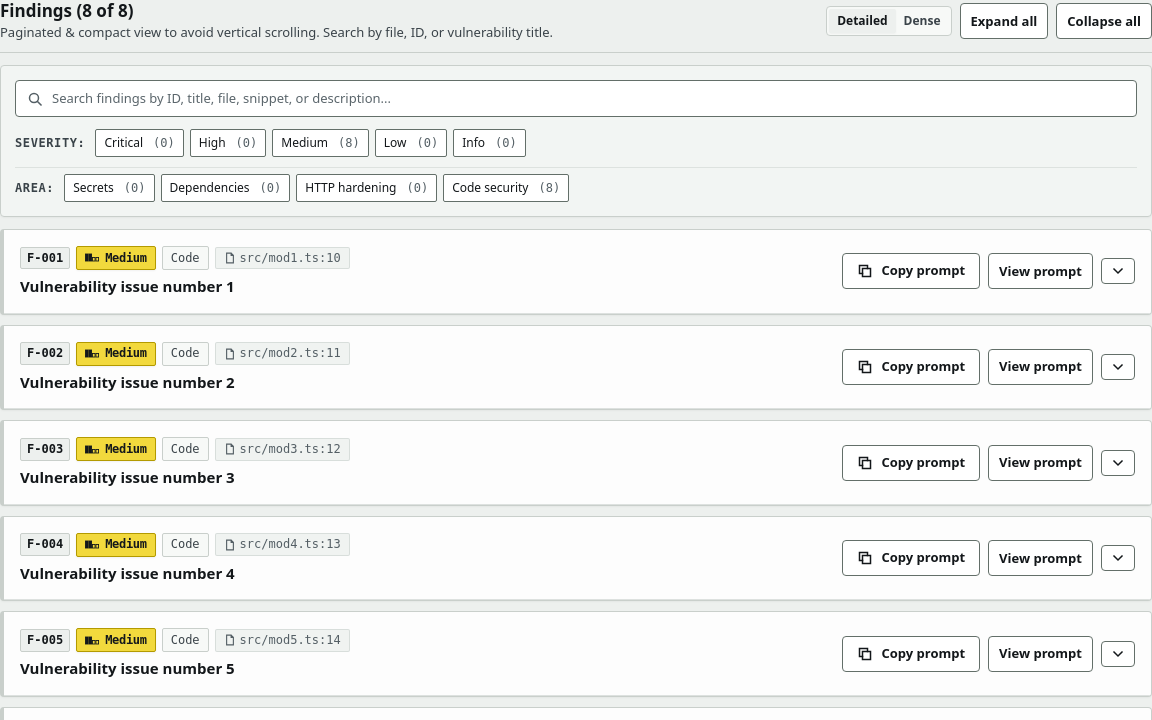
Test: Compact Dashboard & Tabbed Report Navigation › supports density mode toggle and renders pagination controls when findings exceed page size
The image size is (1152, 720).
Expected: the button "Detailed" is shown, x1=829 y1=9 x2=896 y2=33
# Toggle to dense view
Click the button "Dense".
click(922, 21)  # box x1=896 y1=9 x2=948 y2=33
(page scrolled)
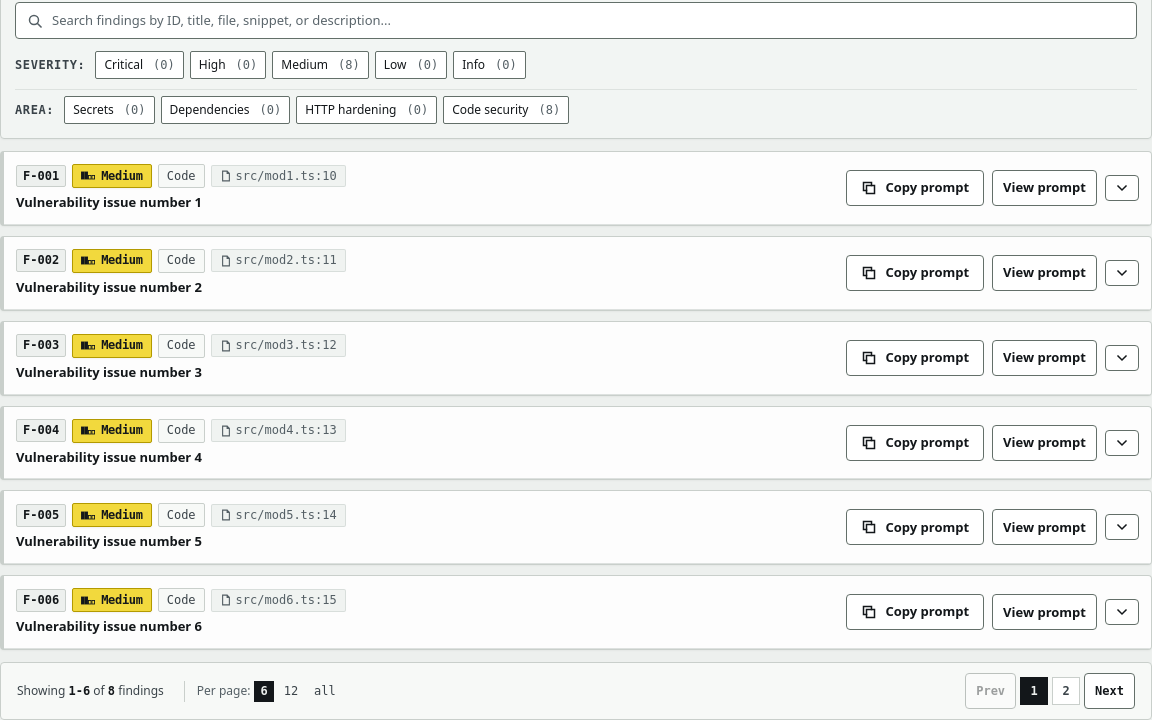
Expected: the element named "Findings pagination" is shown, x1=0 y1=662 x2=1151 y2=719
Expected: the text "Showing 1-6 of 8 findings" is shown, x1=17 y1=683 x2=164 y2=700
# Navigate to page 2
Click the button with aria-label "Next findings page".
click(1110, 691)  # box x1=1084 y1=673 x2=1135 y2=709
(page scrolled)
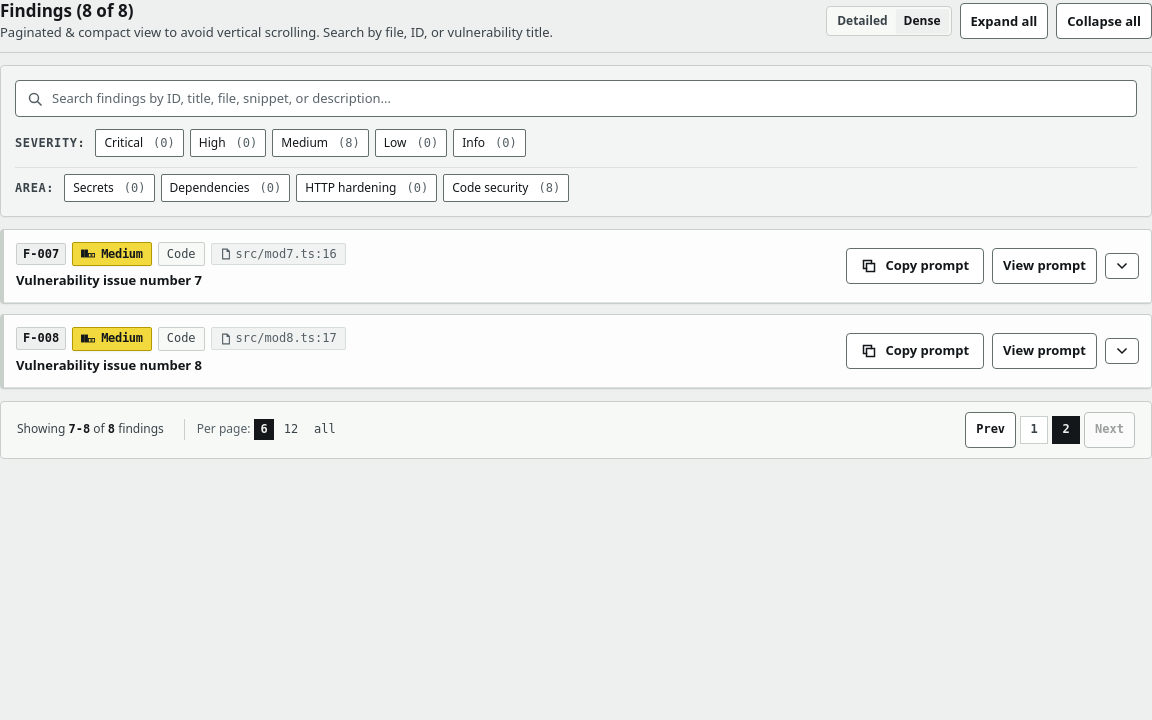
Now the heading "Vulnerability issue number 1" is gone
Now the heading "Vulnerability issue number 7" is shown, box x1=16 y1=271 x2=202 y2=289
Now the heading "Vulnerability issue number 8" is shown, box x1=16 y1=356 x2=202 y2=374
